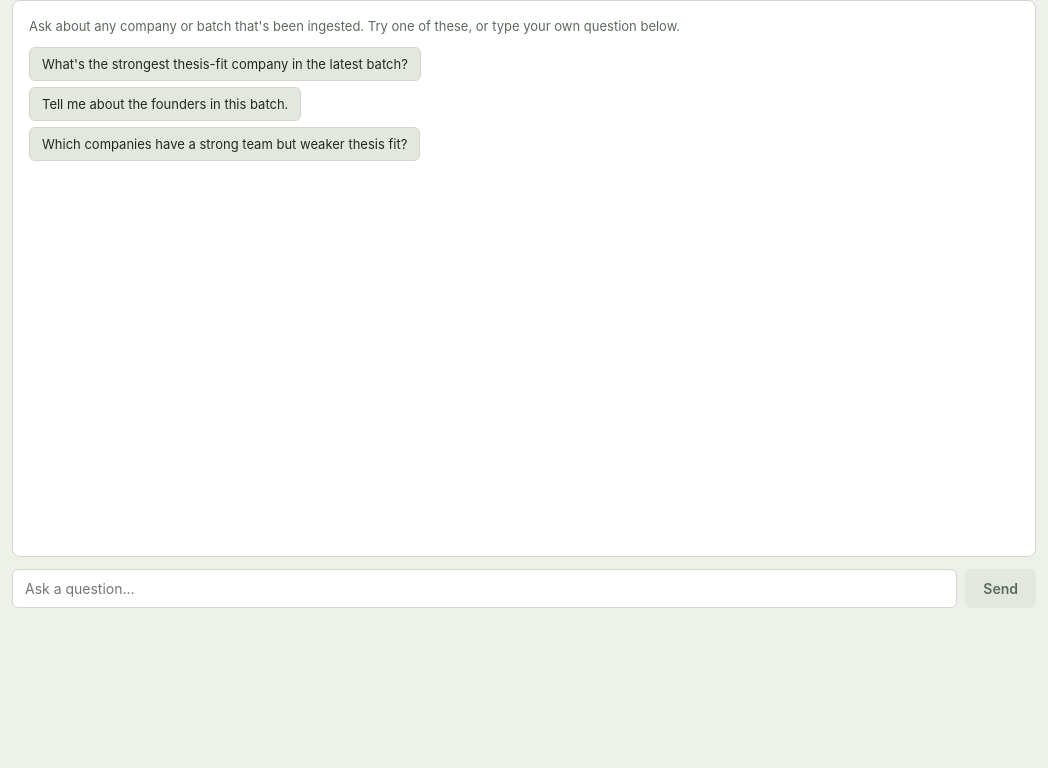
it: ChatPanel › sends the typed message, shows it immediately, then shows the reply
This screenshot has width=1048, height=768.
Type "who's the best fit?" into the field with placeholder "Ask a question…".
click(485, 588); type("who's the best fit?")  # box [12,569,957,608]
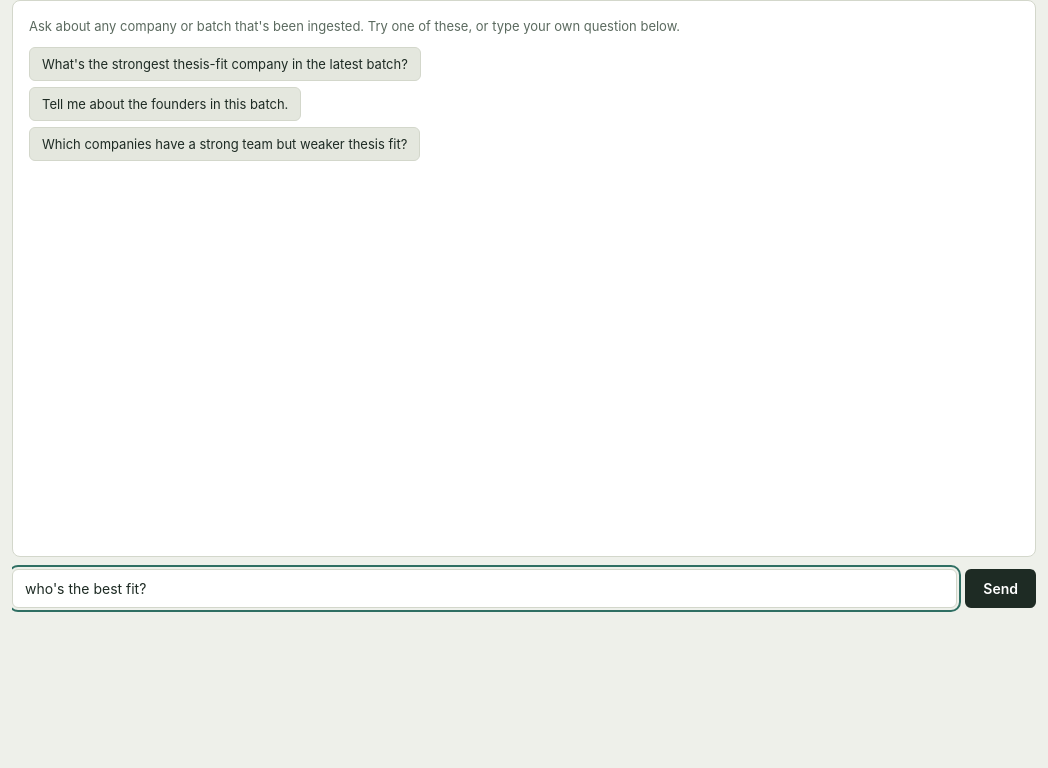
Click the button "Send".
click(1001, 588)  # box [965,569,1036,608]
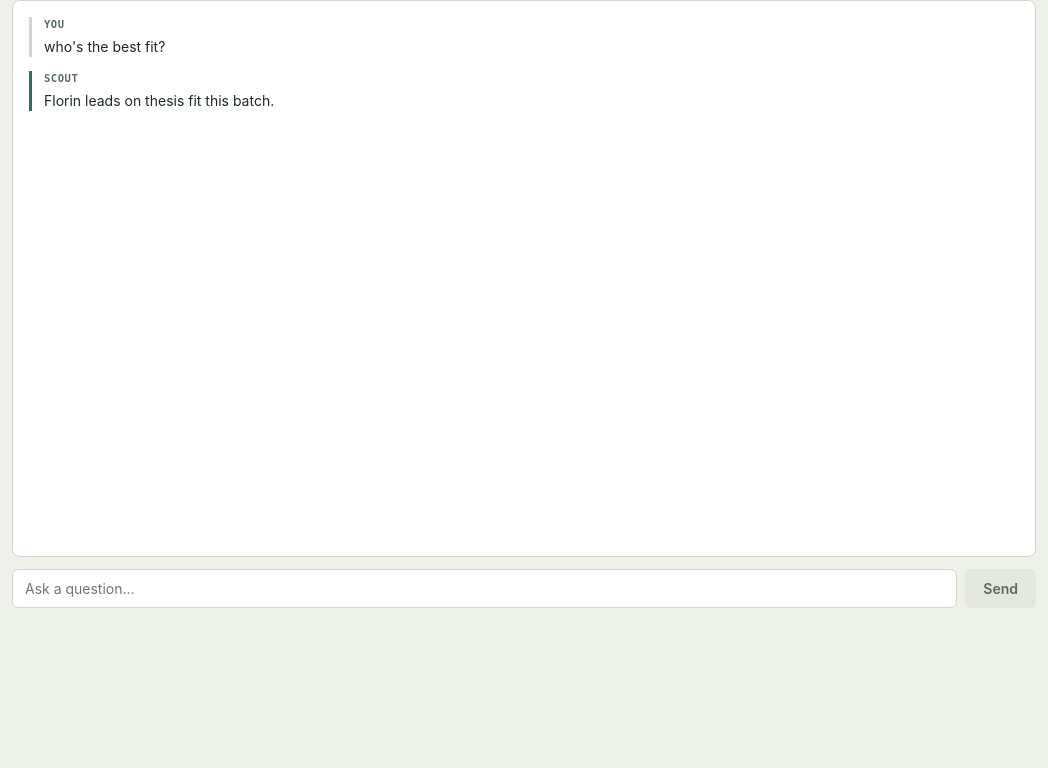
Result: the text "who's the best fit?" is shown at [44,38,165,55]
Result: the text "Florin leads on thesis fit this batch." is shown at [44,92,274,108]
